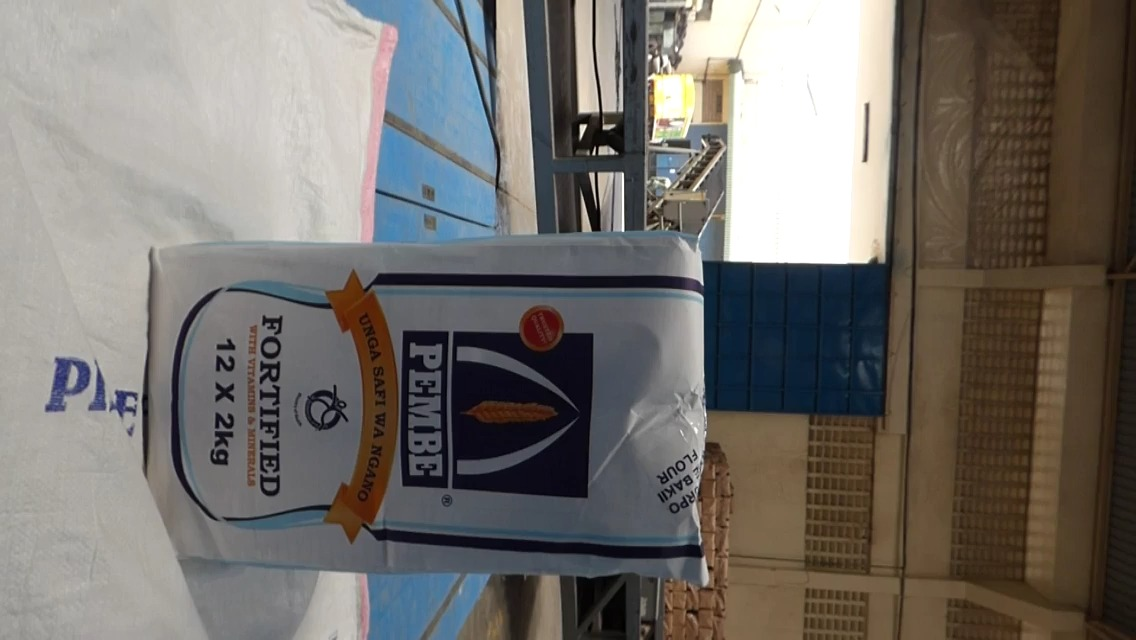wheat_flour_blue_label: (148, 229, 713, 583)
